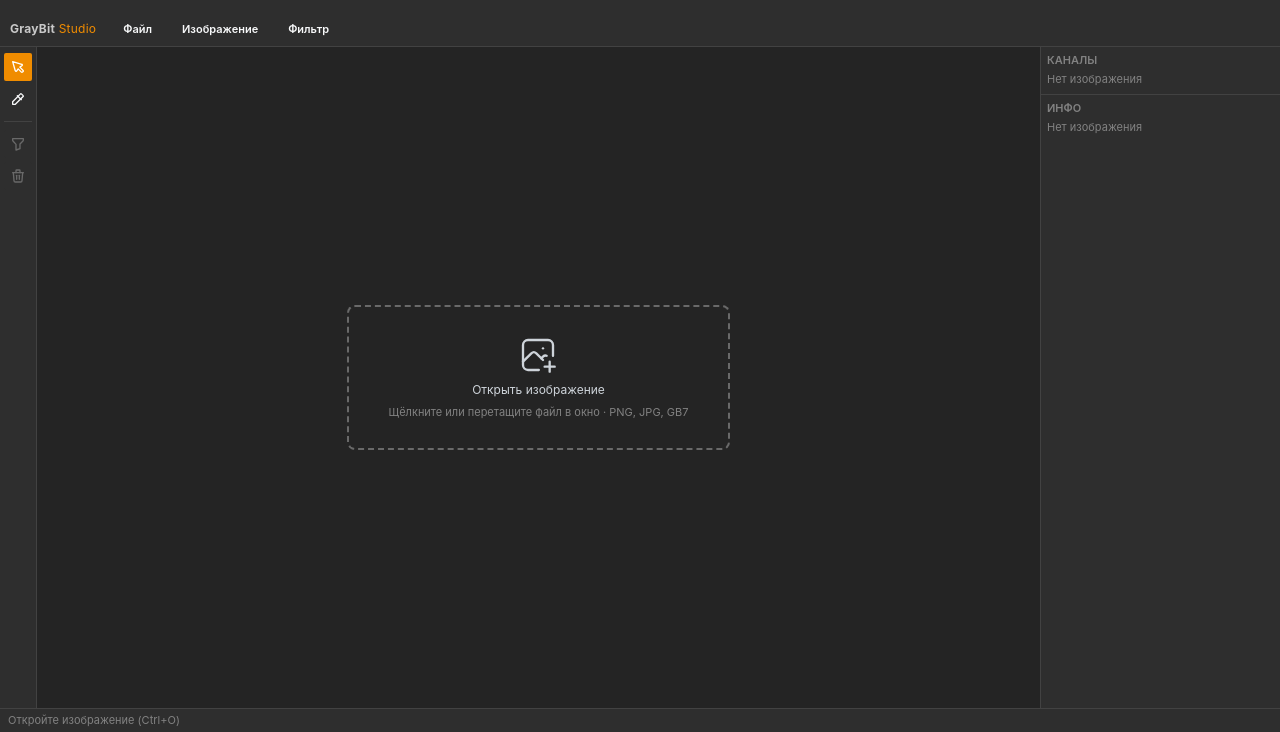
Test: shell › file menu items enabled by document; future items disabled
Click the button "Файл": (138, 29) [108, 14, 167, 44]
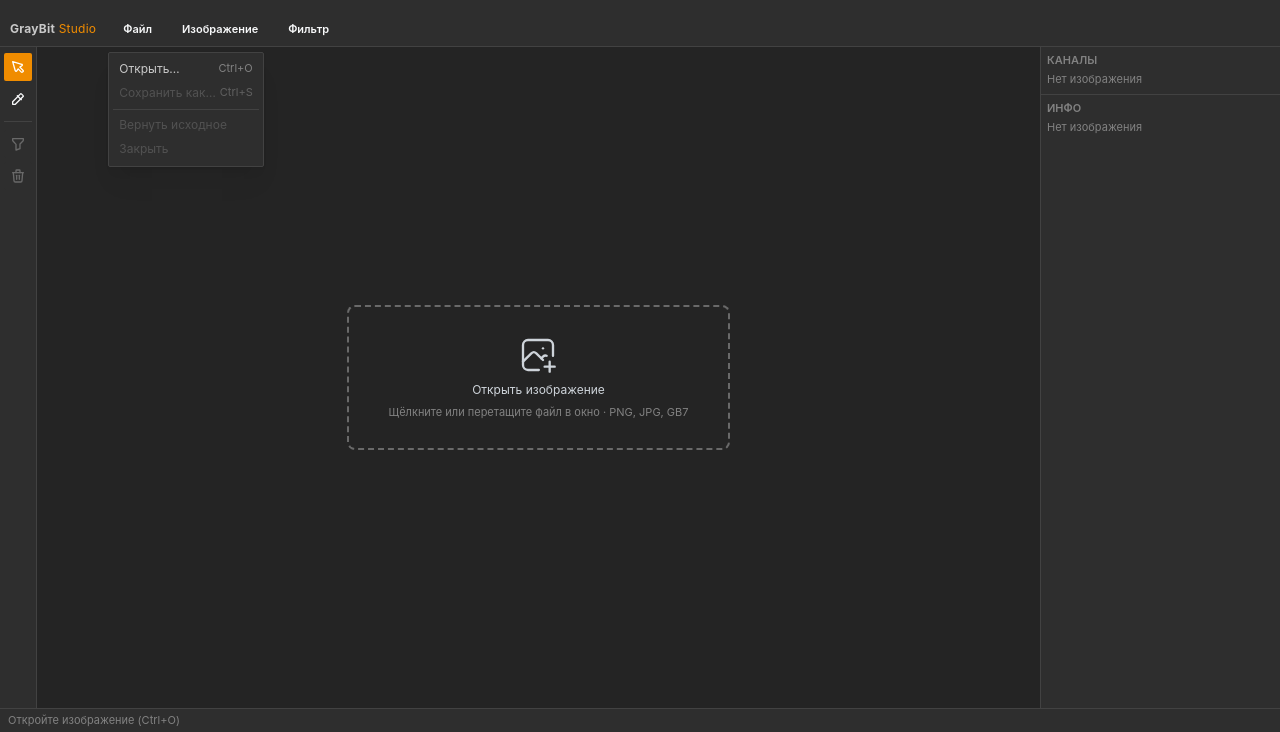
Check: the menu item "Открыть… Ctrl+O" is enabled, box [113, 57, 259, 81]
Check: the menu item "Сохранить как… Ctrl+S" is disabled, box [113, 81, 259, 105]
Press Escape
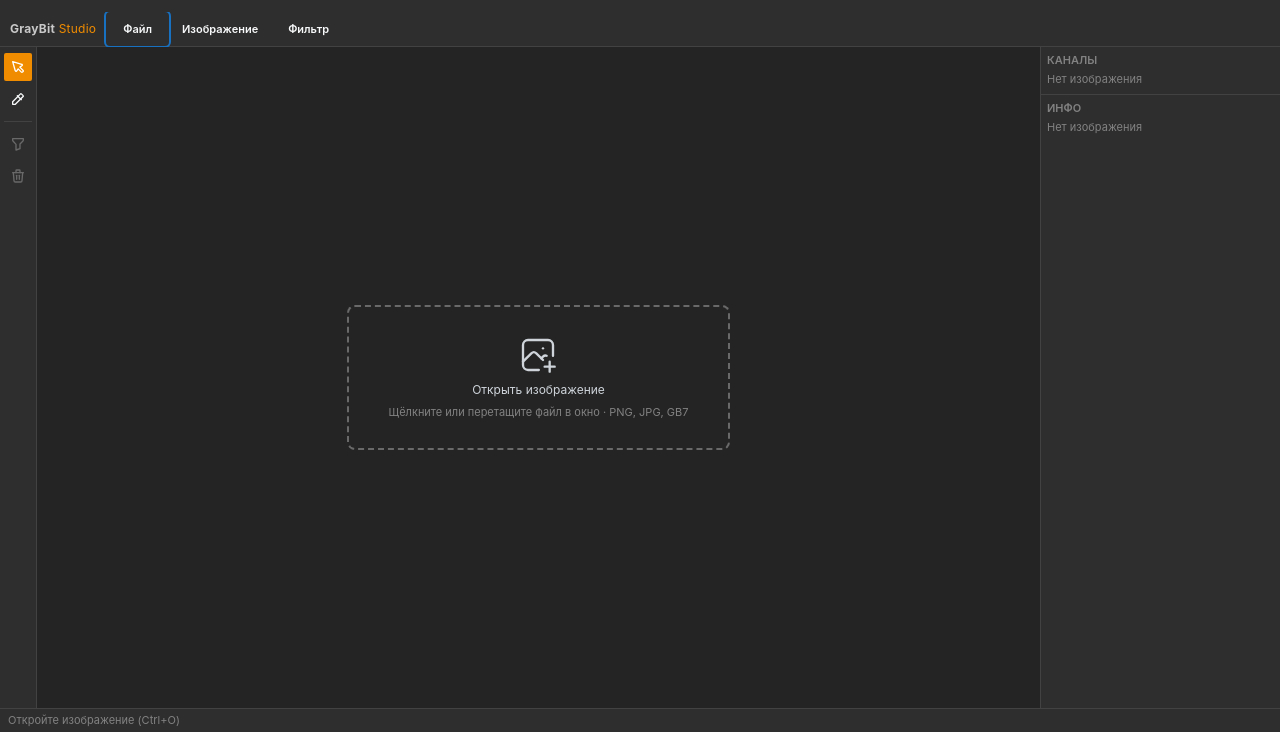
Click the button "Изображение": (220, 29) [167, 14, 273, 44]
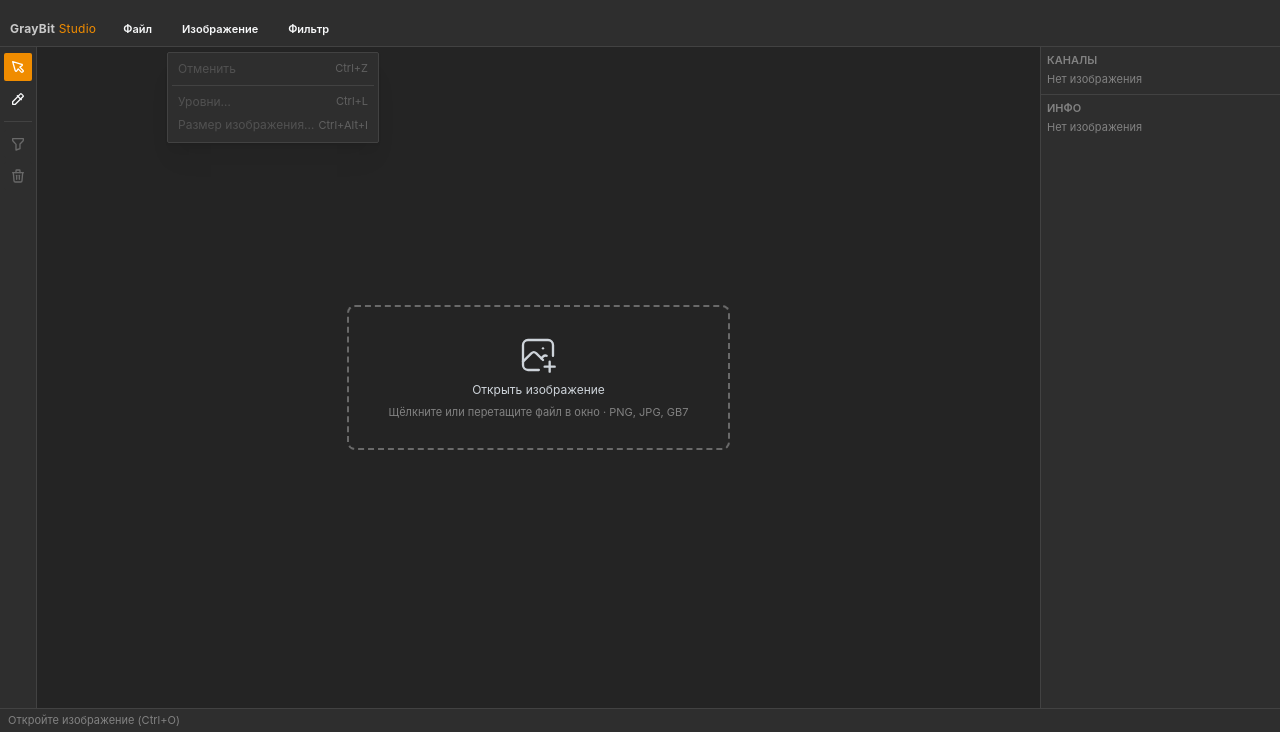
Check: the menu item "Уровни… Ctrl+L" is disabled, box [172, 90, 374, 114]
Check: the menu item "Размер изображения… Ctrl+Alt+I" is disabled, box [172, 114, 374, 138]
Check: the menu item "Отменить Ctrl+Z" is disabled, box [172, 57, 374, 81]
